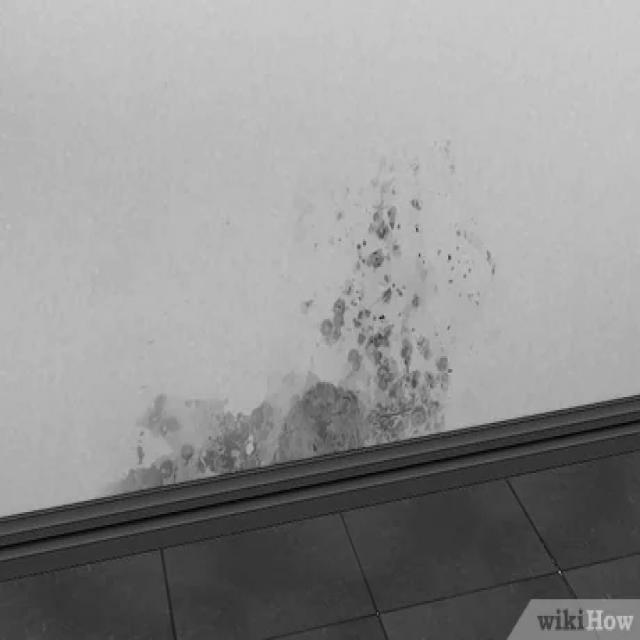stain marks: (111, 138, 506, 494)
